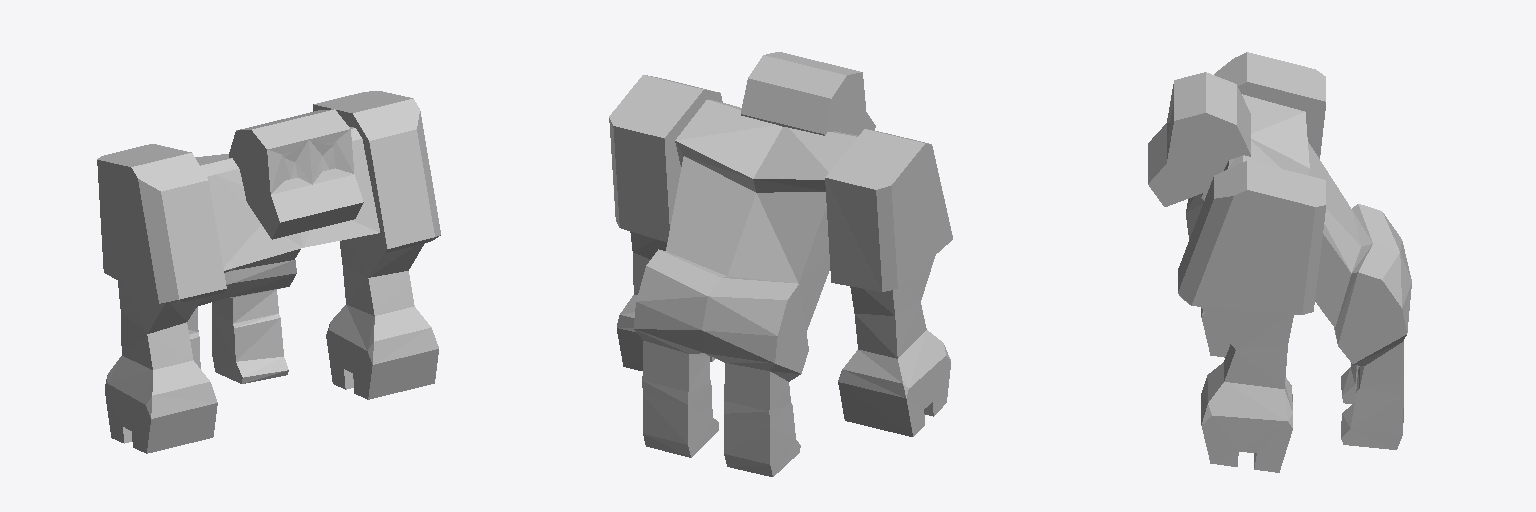
File: kong_000014.obj
The picture shows the model from 3 angles: view 1: azimuth 30°, elevation 25°; view 2: azimuth 150°, elevation 25°; view 3: azimuth 270°, elevation 25°; orthographic projection.
Parts seen in each view (by area): view 1: Cube; view 2: Cube; view 3: Cube.
Boxes of the visible parts, x1,y1,x2,y2 form: Cube: [97, 91, 440, 453]; Cube: [609, 52, 952, 476]; Cube: [1148, 52, 1411, 472].
Bounding box in the file's own units: 5.84 × 6.3 × 4.61.